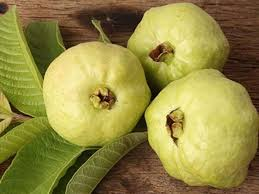guava: (145, 69, 258, 186), (43, 41, 151, 147), (128, 2, 231, 86)
